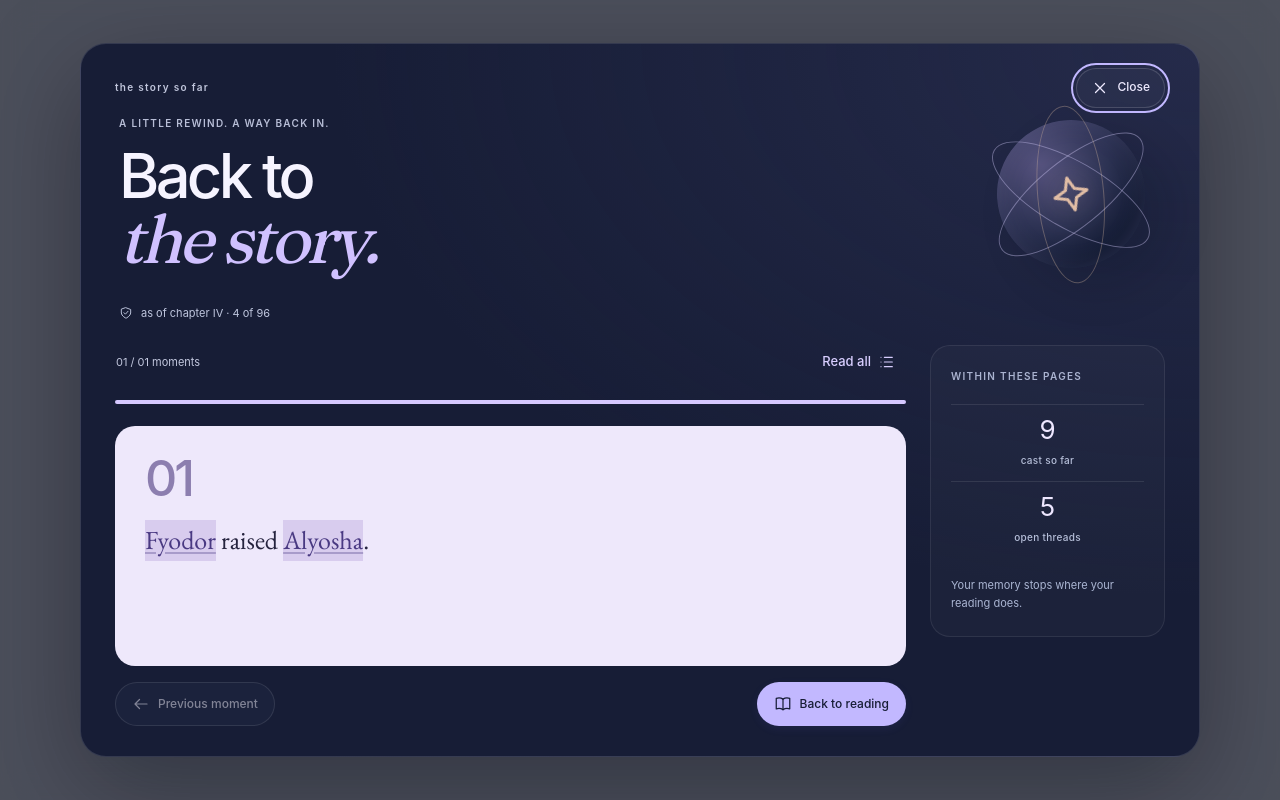
Test: CatchMeUp hero › clicking a name opens its card, fetched at the current bookmark (LIT-30)
Step 1. Click the button "Fyodor" → x=180, y=540, box 145,520 -> 216,561
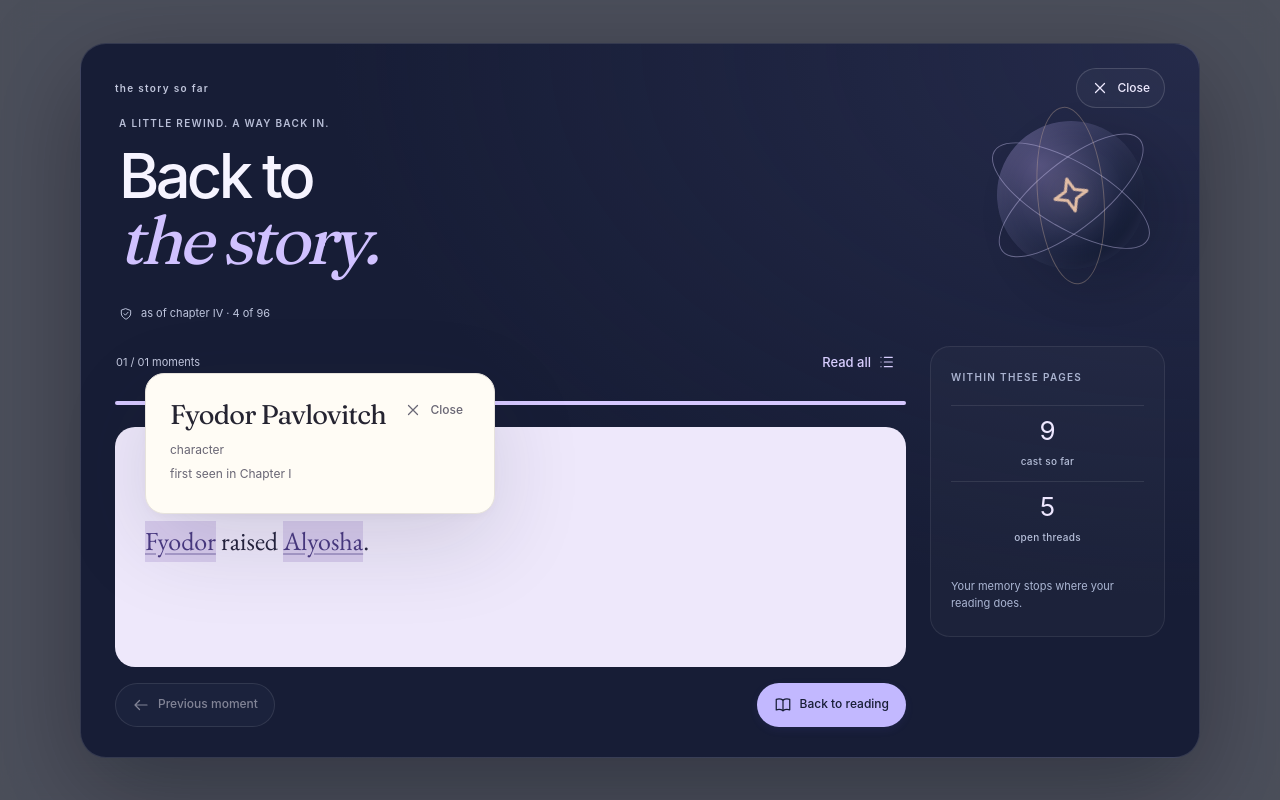
Expected: the dialog "Close Fyodor Pavlovitch character first seen in Chapter I" is shown, 145,373 -> 495,514
